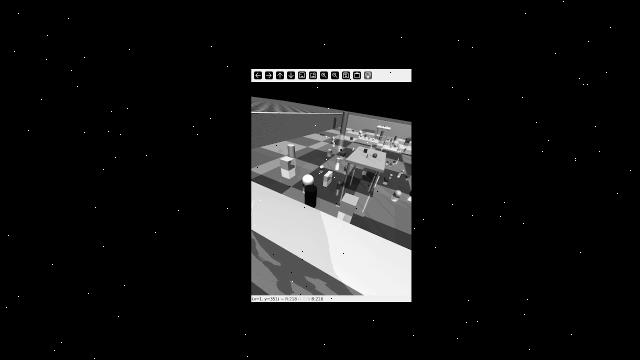cilindro: (304, 184, 320, 208), (339, 111, 349, 134), (287, 144, 296, 157), (374, 175, 382, 188), (332, 141, 339, 148), (336, 182, 343, 189), (380, 130, 386, 136), (335, 158, 340, 164), (367, 153, 371, 160), (397, 148, 402, 152), (394, 136, 398, 141), (320, 133, 326, 136), (406, 175, 410, 179), (332, 137, 336, 140), (383, 141, 387, 144), (368, 136, 370, 141), (386, 161, 389, 164), (397, 158, 399, 162), (404, 147, 406, 151), (383, 125, 386, 127)
cuadrado: (338, 192, 360, 216), (278, 157, 297, 170), (363, 167, 370, 172), (340, 151, 347, 156), (363, 148, 369, 153), (406, 137, 410, 144), (398, 172, 402, 177), (328, 149, 333, 153), (350, 137, 354, 141), (363, 134, 367, 137), (388, 142, 391, 145), (352, 129, 355, 132), (393, 161, 396, 163), (387, 126, 388, 128)
esfera: (303, 174, 315, 183), (394, 190, 403, 196), (343, 165, 351, 171), (372, 153, 380, 157), (319, 164, 324, 170), (358, 130, 363, 134), (390, 173, 394, 177), (401, 169, 406, 172), (358, 134, 363, 137), (390, 163, 393, 165), (340, 148, 342, 151), (390, 145, 393, 147), (394, 144, 397, 146), (372, 138, 375, 140), (381, 126, 384, 128)
rectangulo: (323, 170, 334, 182), (383, 175, 390, 183), (381, 140, 385, 144), (386, 138, 391, 141)
